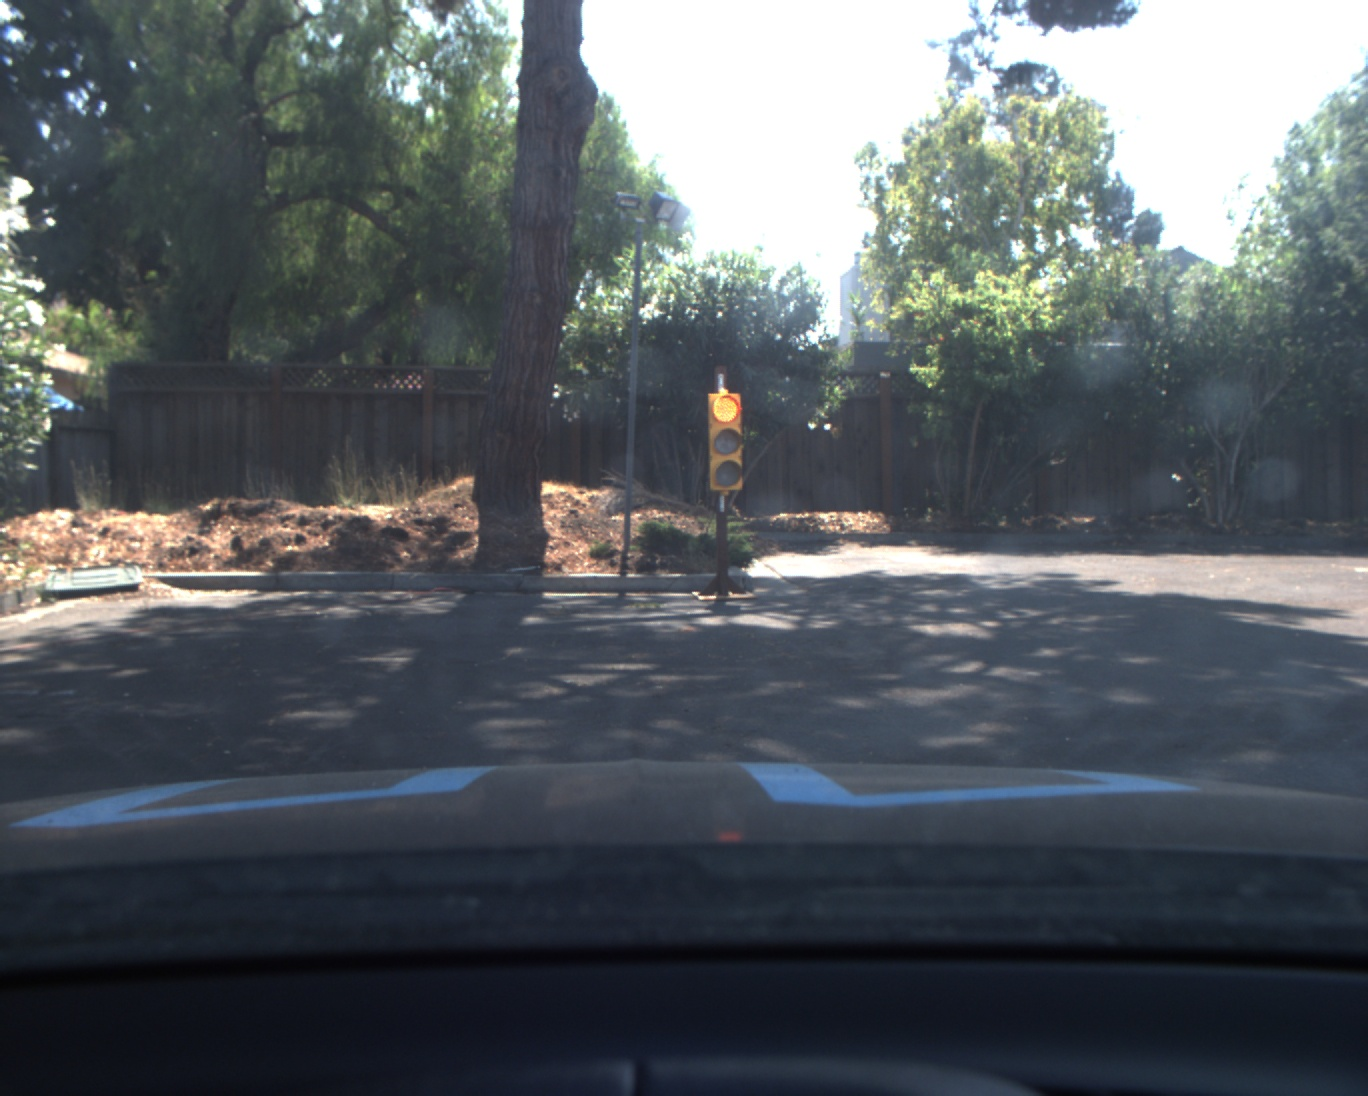red: (709, 392, 742, 492)
